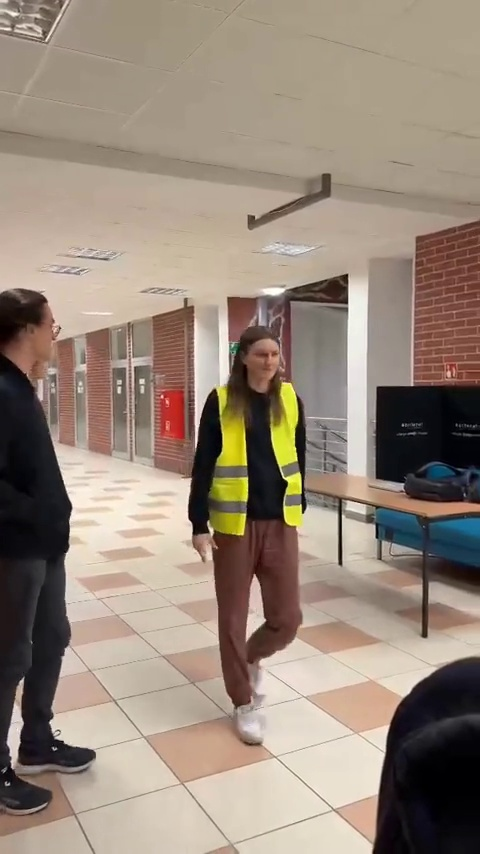no vest: (0, 270, 105, 827)
vest: (187, 328, 314, 745)
